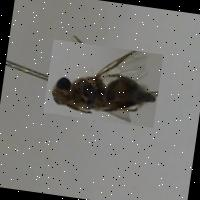Oriental-fruit-fly: (42, 37, 162, 126)
